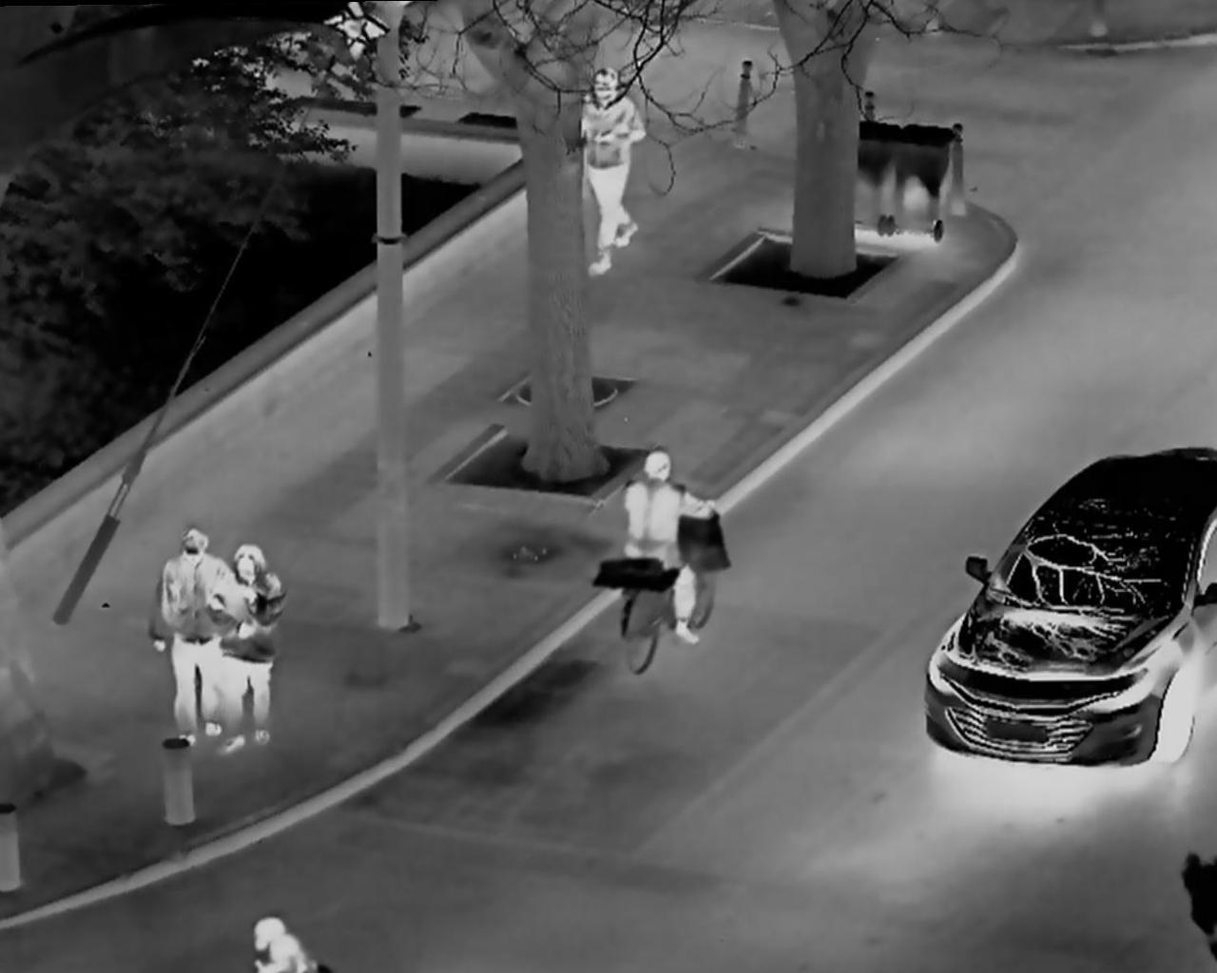person: (615, 440, 721, 659), (155, 508, 227, 754), (579, 52, 648, 274), (221, 543, 290, 757), (246, 910, 324, 973)
